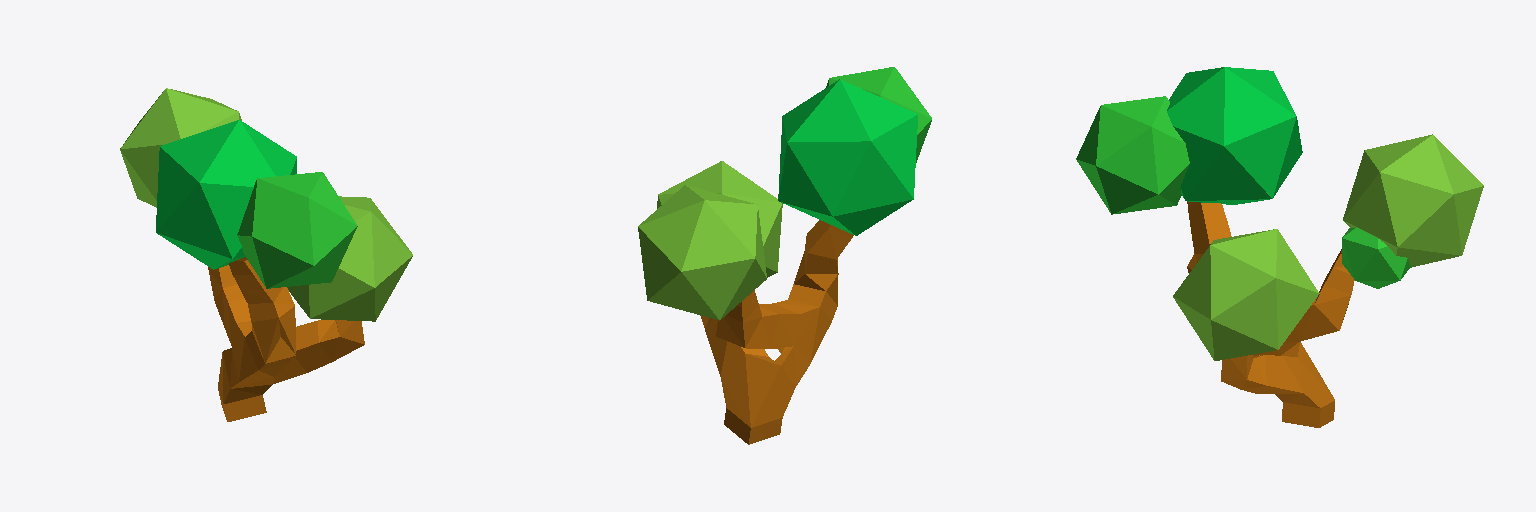
File: tree03.obj
3 renders of one model, left to right at view 1: azimuth 30°, elevation 25°; view 2: azimuth 150°, elevation 25°; view 3: azimuth 270°, elevation 25°, orthographic.
Visible parts, largest first — view 1: Icosphere.002, Cube, Icosphere.003, Icosphere.004_Icosphere.008, Icosphere; view 2: Icosphere.002, Cube, Icosphere, Icosphere.004_Icosphere.008, Icosphere.003; view 3: Icosphere.002, Icosphere.004_Icosphere.008, Icosphere, Cube, Icosphere.003, Icosphere.001.
Boxes of the visible parts, box(x1,y1,x2,y2) form: Icosphere.002: box(156, 120, 296, 269); Cube: box(208, 257, 364, 421); Icosphere.003: box(237, 172, 357, 288); Icosphere.004_Icosphere.008: box(287, 196, 412, 321); Icosphere: box(120, 88, 241, 207); Icosphere.002: box(778, 79, 917, 235); Cube: box(700, 220, 853, 444); Icosphere: box(638, 185, 766, 320); Icosphere.004_Icosphere.008: box(657, 161, 782, 277); Icosphere.003: box(826, 67, 931, 162); Icosphere.002: box(1167, 67, 1302, 204); Icosphere.004_Icosphere.008: box(1173, 229, 1319, 360); Icosphere: box(1343, 134, 1483, 267); Cube: box(1187, 201, 1354, 427); Icosphere.003: box(1076, 96, 1189, 214); Icosphere.001: box(1342, 227, 1410, 288).
Size of the model in its own units: 3.87 by 5.03 by 5.56.